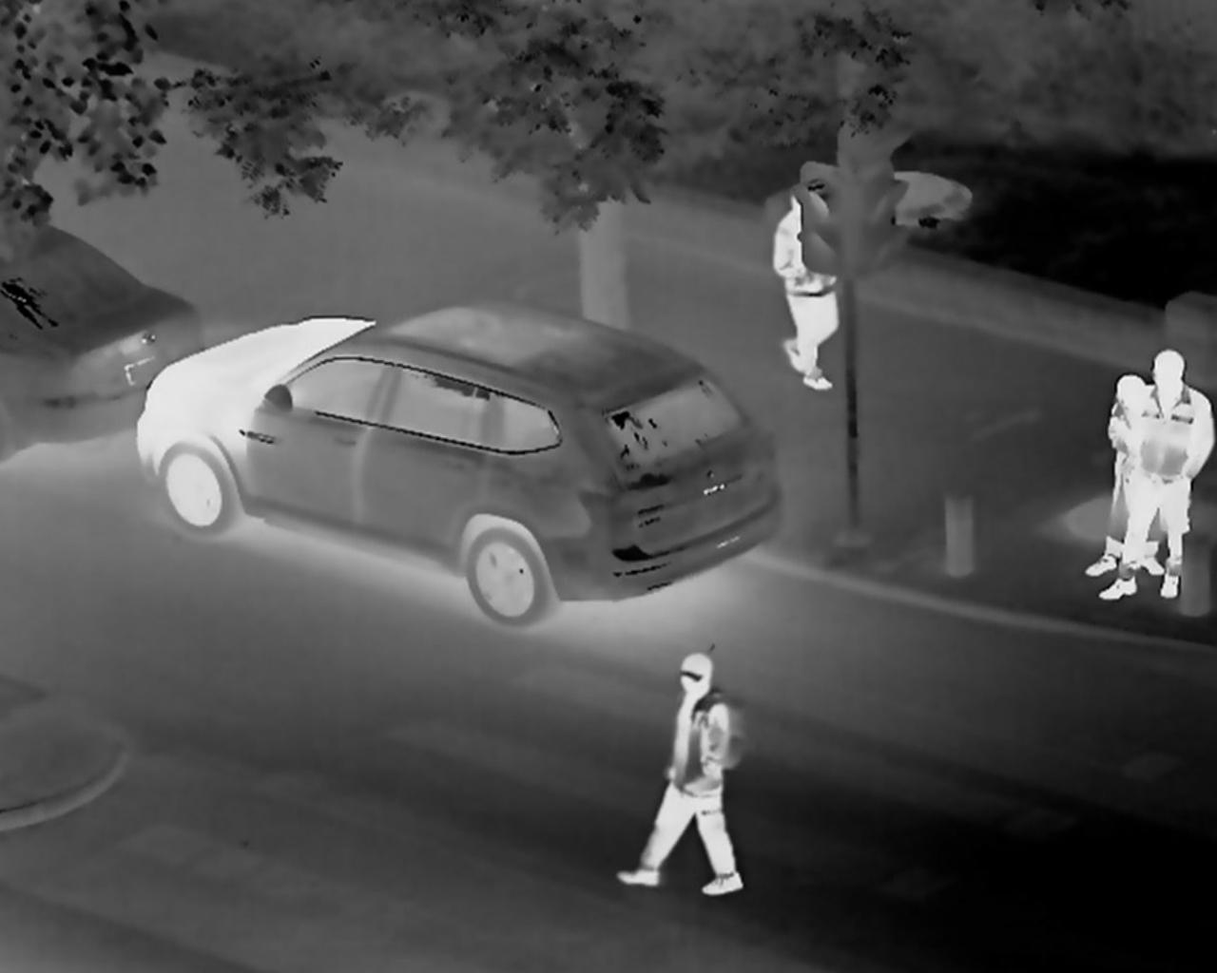person: (650, 638, 757, 916), (1100, 355, 1217, 597), (770, 210, 831, 371)
